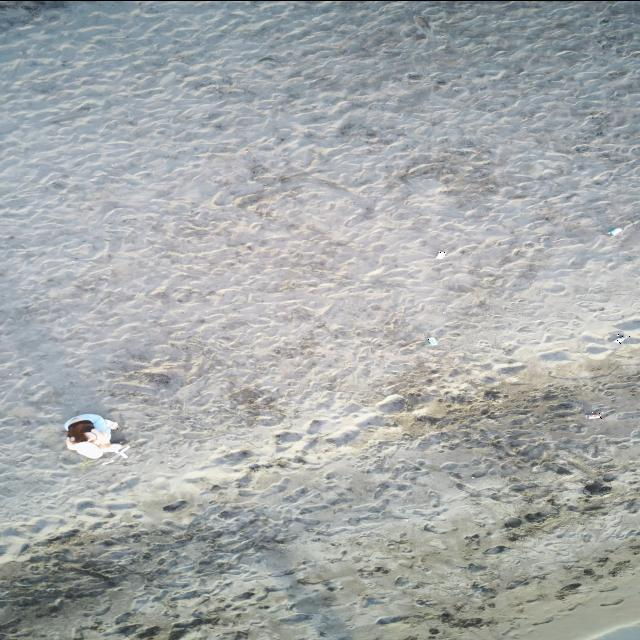Garbage: (65, 413, 127, 457), (64, 413, 118, 437), (413, 15, 430, 31), (111, 444, 128, 456), (112, 444, 128, 456), (607, 227, 622, 236), (587, 411, 602, 419), (101, 456, 114, 464), (616, 333, 627, 342), (101, 457, 114, 464), (426, 335, 436, 344), (436, 251, 444, 259), (111, 444, 112, 446)
